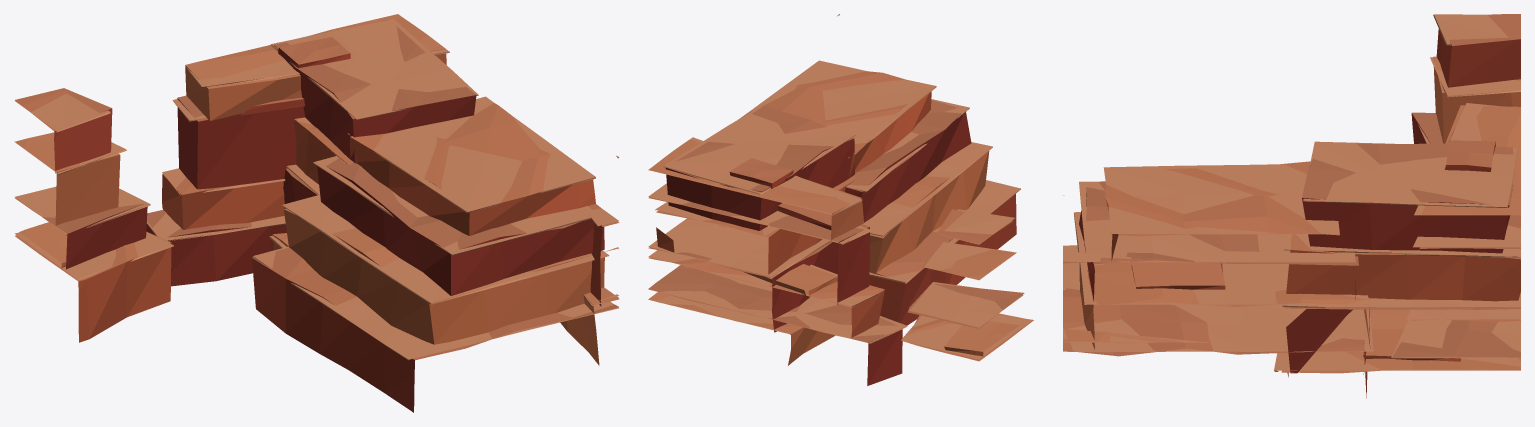
3 views of the same model, side by side, from view 1: azimuth 30°, elevation 25°; view 2: azimuth 150°, elevation 25°; view 3: azimuth 270°, elevation 25° (orthographic). The views are drawn at different scales.
Visible parts, largest first — view 1: scene.1.4; view 2: scene.1.4; view 3: scene.1.4.
Part boxes in pixels (x1,y1,x2,y2): scene.1.4: (14, 14, 619, 412); scene.1.4: (648, 14, 1033, 385); scene.1.4: (1063, 14, 1520, 398).
Size of the model in its own units: 62.5 by 32.74 by 62.5.
